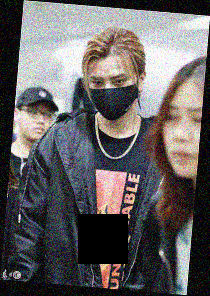with_mask: (87, 70, 139, 118)
without_mask: (160, 103, 200, 177), (18, 104, 54, 141)
